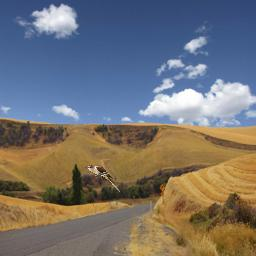Cuckoo: (85, 165, 120, 192)
